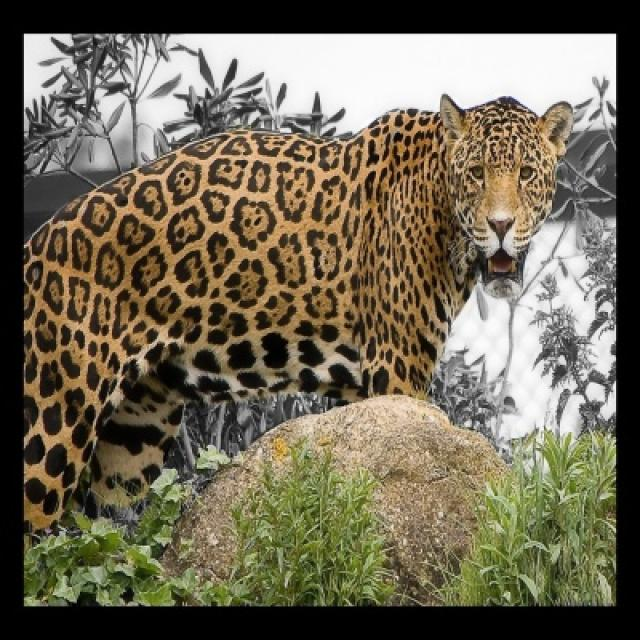Jaguar: (24, 94, 576, 534)
